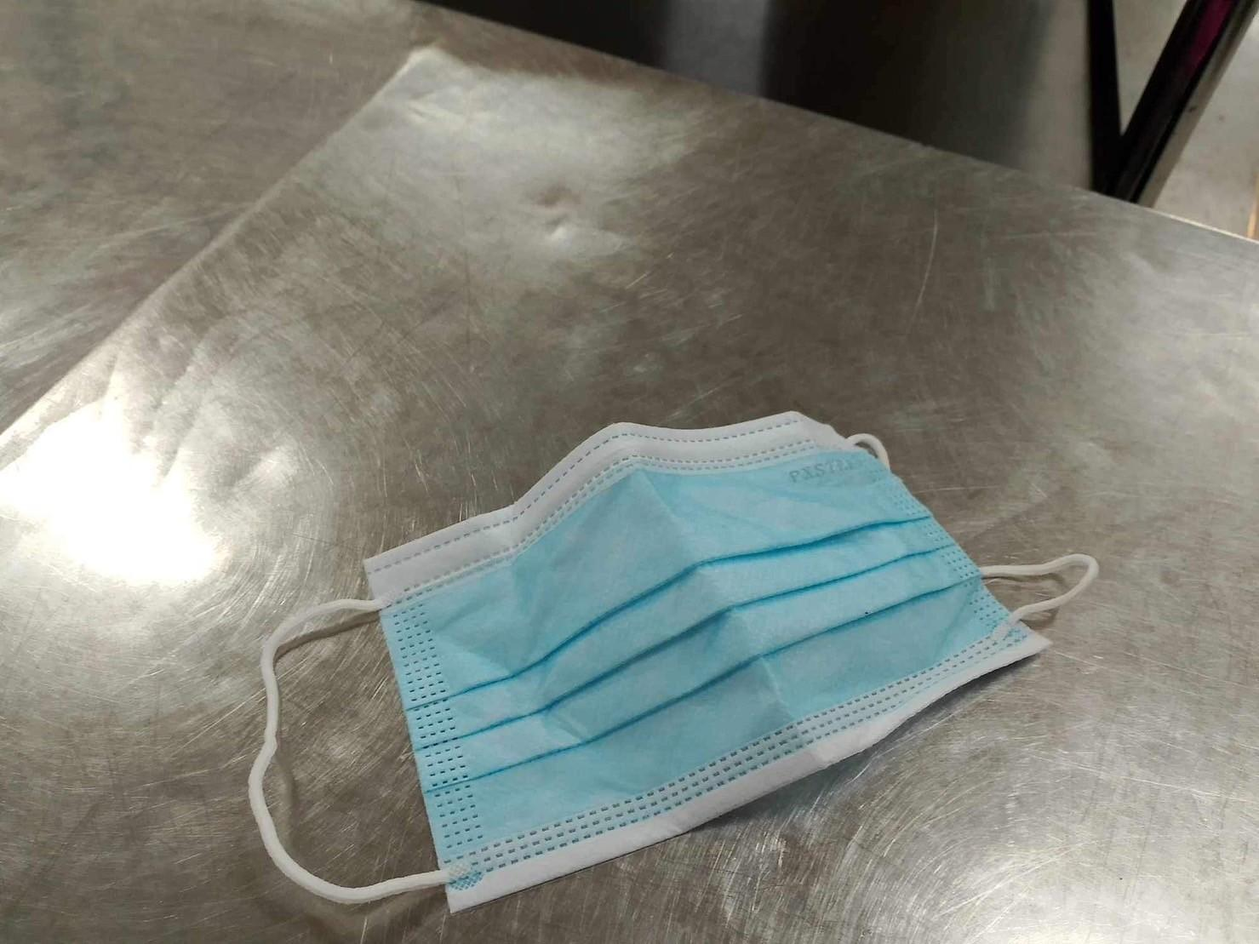General: (244, 407, 1100, 916)
